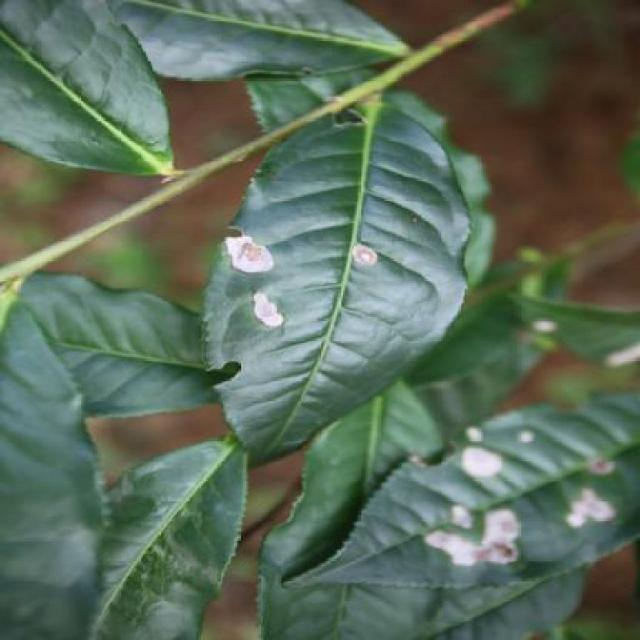Leaf rust of tea: (193, 96, 464, 482), (323, 397, 640, 609)
